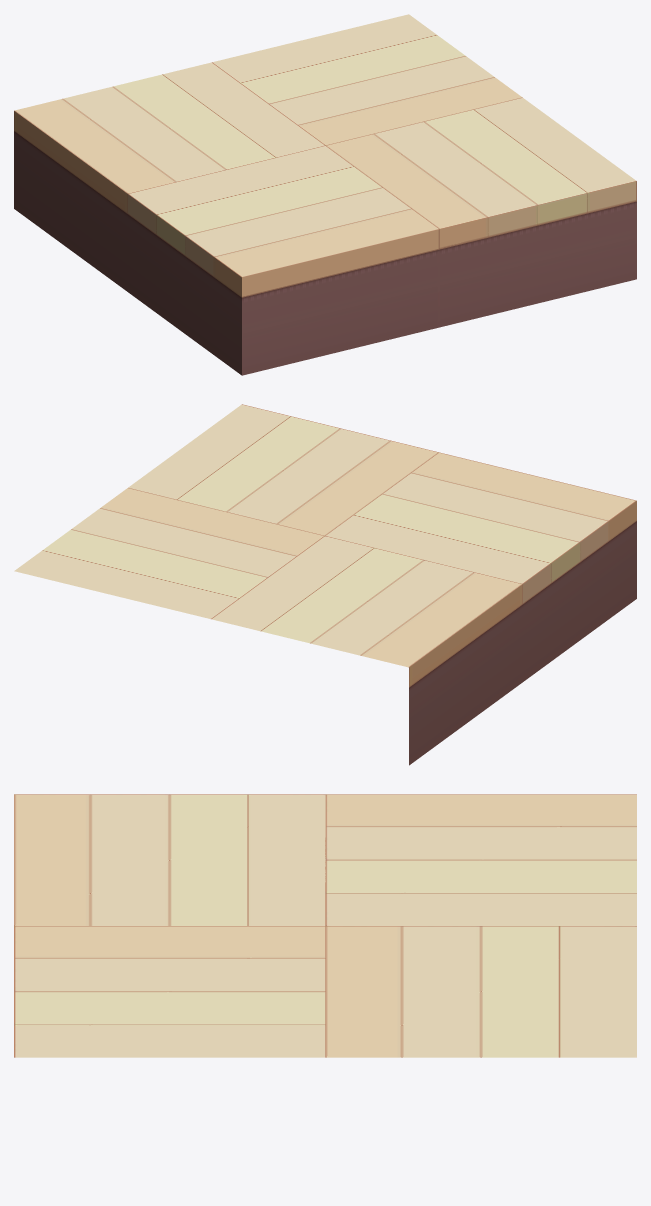
Rendered from my_abydosclassroom_01_tile_2x2.glb.
3 renders of one model, top to bottom at view 1: azimuth 30°, elevation 25°; view 2: azimuth 150°, elevation 25°; view 3: azimuth 270°, elevation 25°, orthographic. The views are drawn at different scales.
Visible parts, largest first — view 1: my_abydosclassroom_01_tile_2x2; view 2: my_abydosclassroom_01_tile_2x2; view 3: my_abydosclassroom_01_tile_2x2.
Part boxes in pixels (x1,y1,x2,y2): my_abydosclassroom_01_tile_2x2: [14, 14, 636, 375]; my_abydosclassroom_01_tile_2x2: [14, 404, 636, 765]; my_abydosclassroom_01_tile_2x2: [14, 794, 636, 1057].
Bounding box in the file's own units: 0.012 × 0.00285 × 0.012.
1 material, 1 textured.
